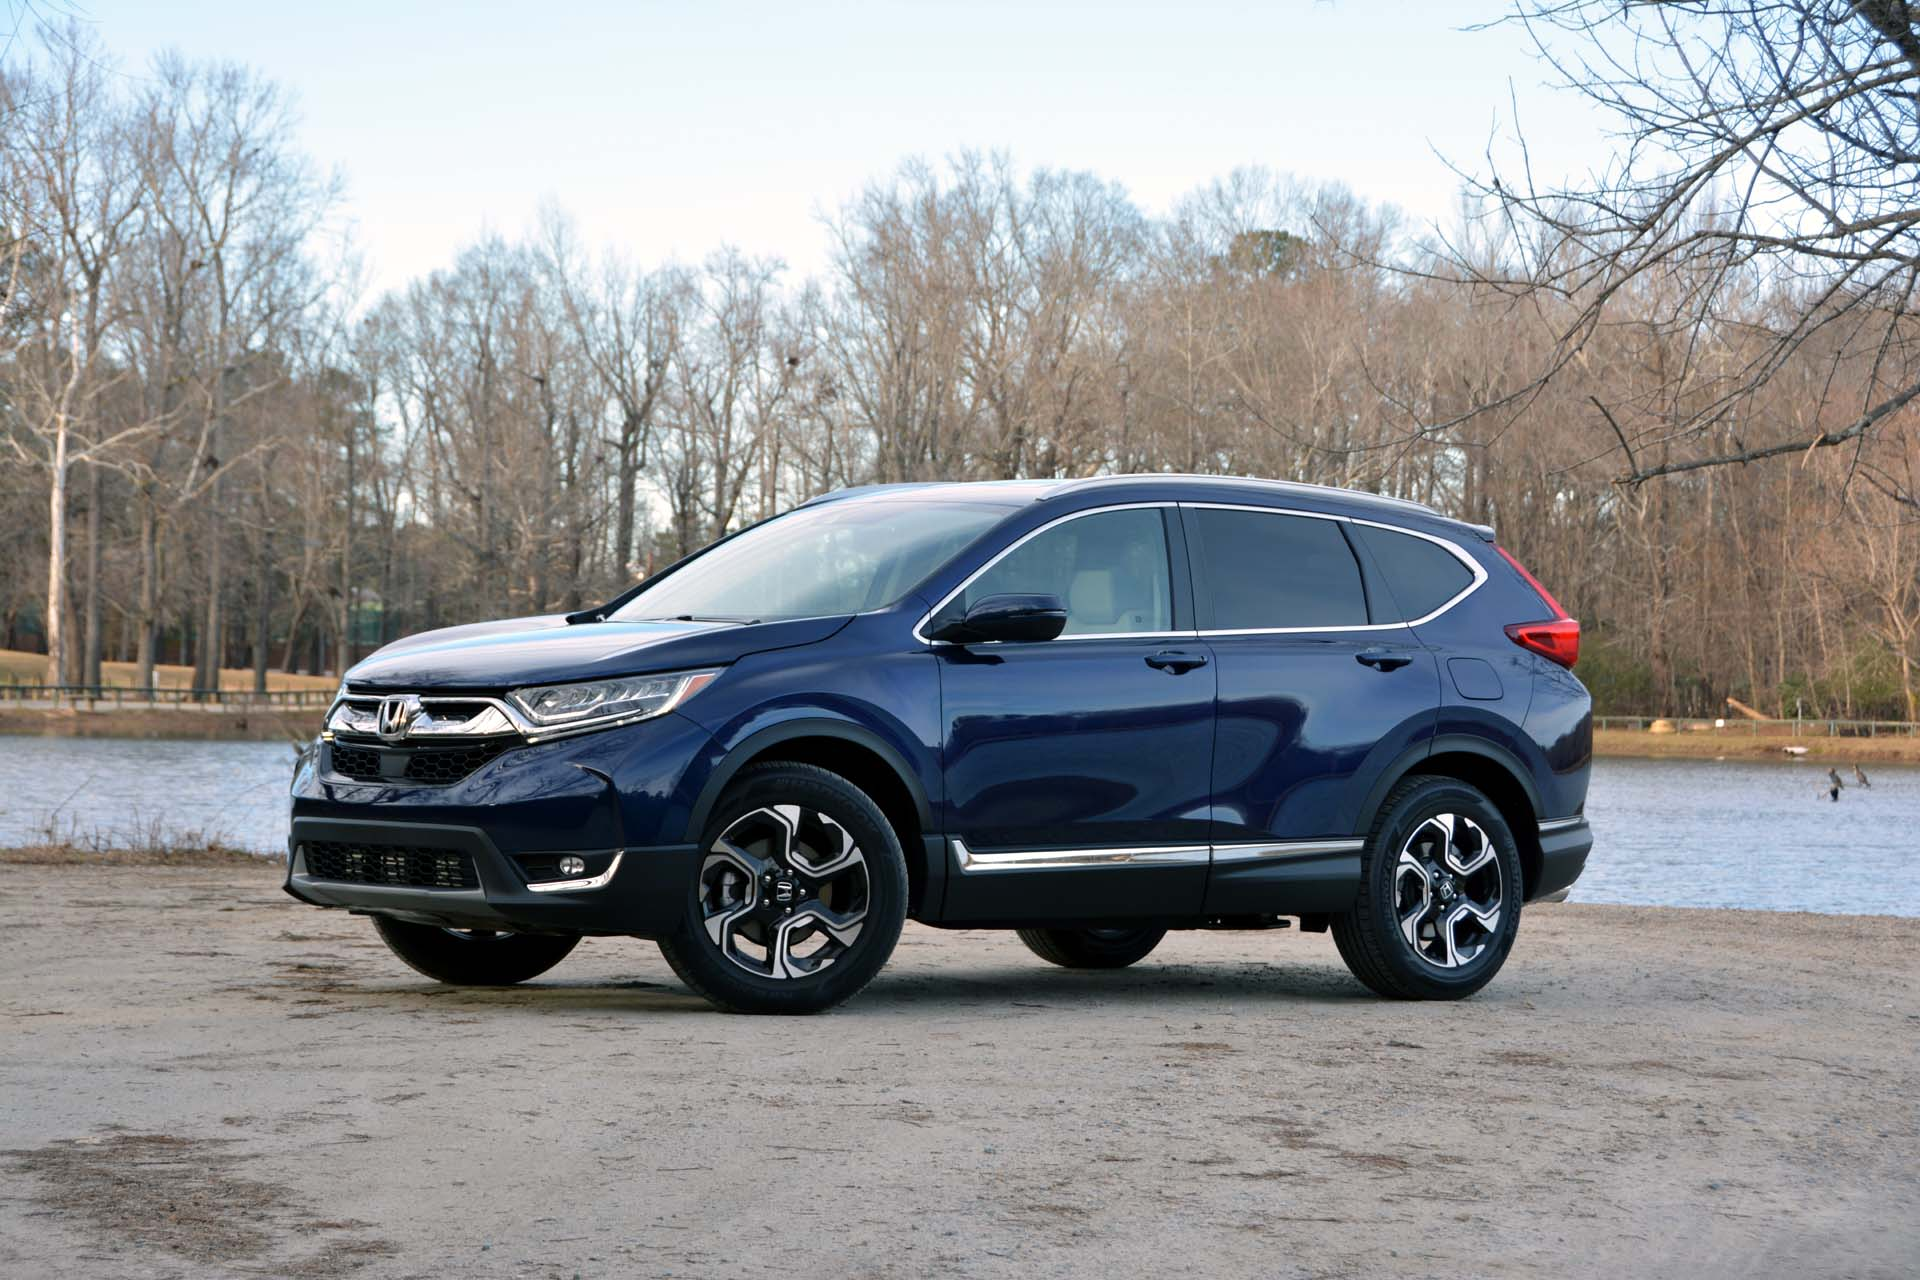crv: (246, 439, 1613, 1061)
